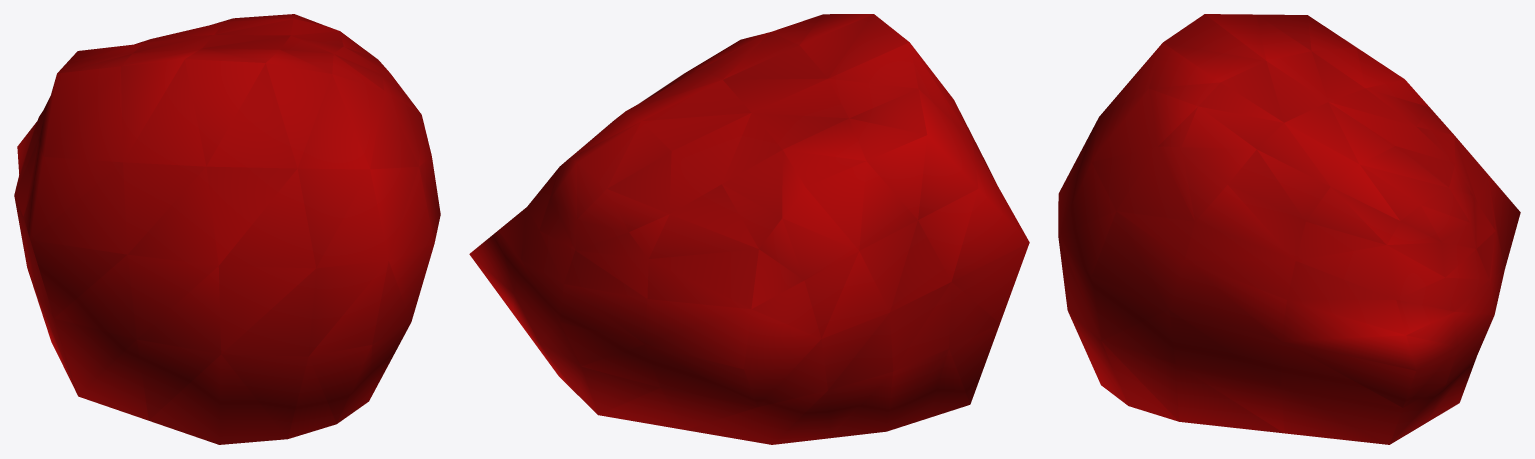
File: geology-pebbles-sandchunk_v9.fbx
3 renders of one model, left to right at view 1: azimuth 30°, elevation 25°; view 2: azimuth 150°, elevation 25°; view 3: azimuth 270°, elevation 25°, orthographic. The views are drawn at different scales.
Parts seen in each view (by area): view 1: SandChunk_v9; view 2: SandChunk_v9; view 3: SandChunk_v9.
Part boxes in pixels (x1,y1,x2,y2): SandChunk_v9: (14,14,440,444); SandChunk_v9: (469,14,1029,444); SandChunk_v9: (1058,14,1520,444).
Size of the model in its own units: 7.41 by 5.19 by 6.65.
